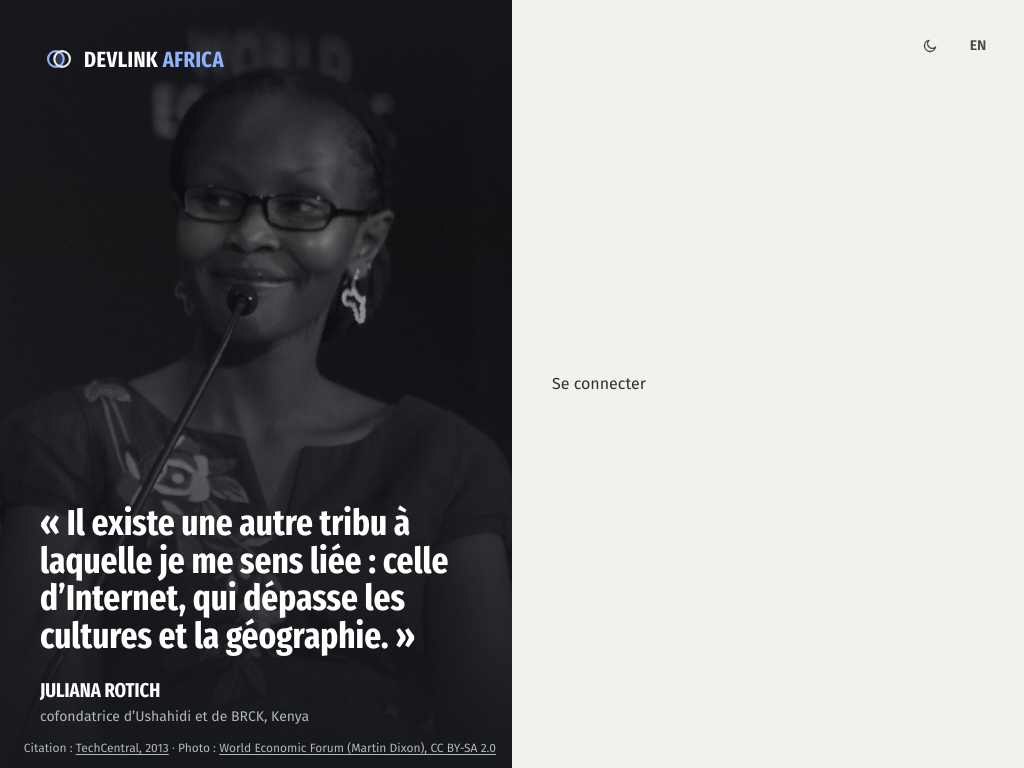
Test case: enveloppe des écrans d’authentification › propose la bascule de langue et de thème sans passer par la navbar principale
Click the button with aria-label "Switch to English": {"x": 978, "y": 46} left=956, top=24, right=1000, bottom=68
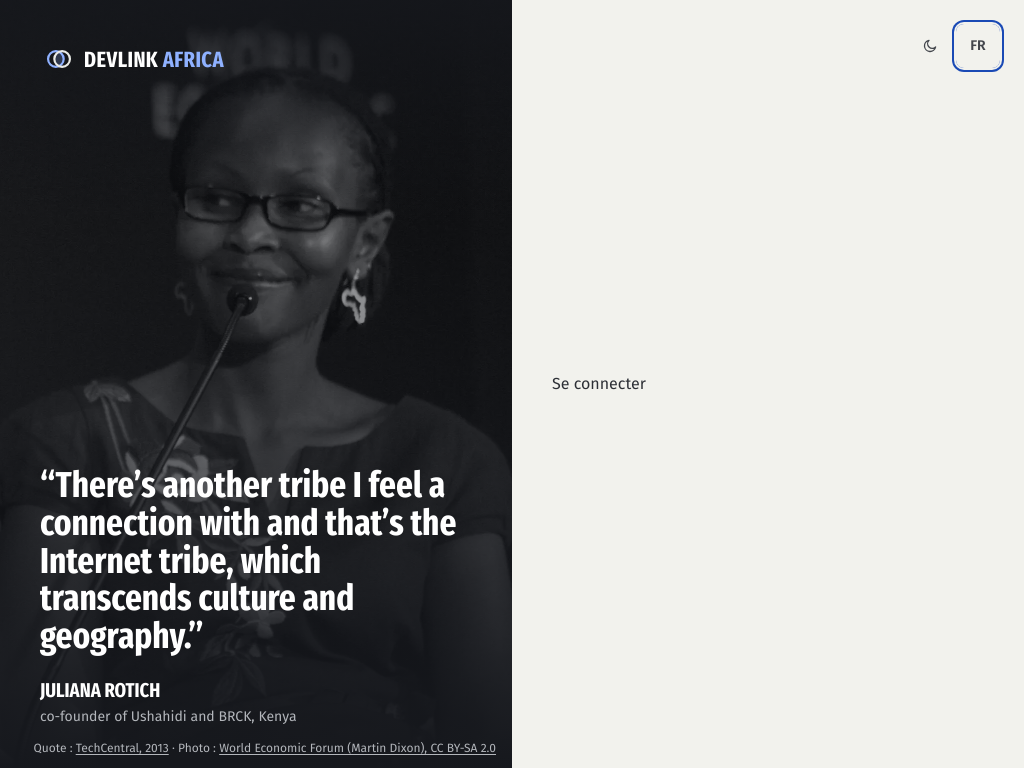
Result: the button with aria-label "Passer en français" is shown at left=956, top=24, right=1000, bottom=68
Result: the button named "Switch to dark theme" is shown at left=908, top=24, right=952, bottom=68
